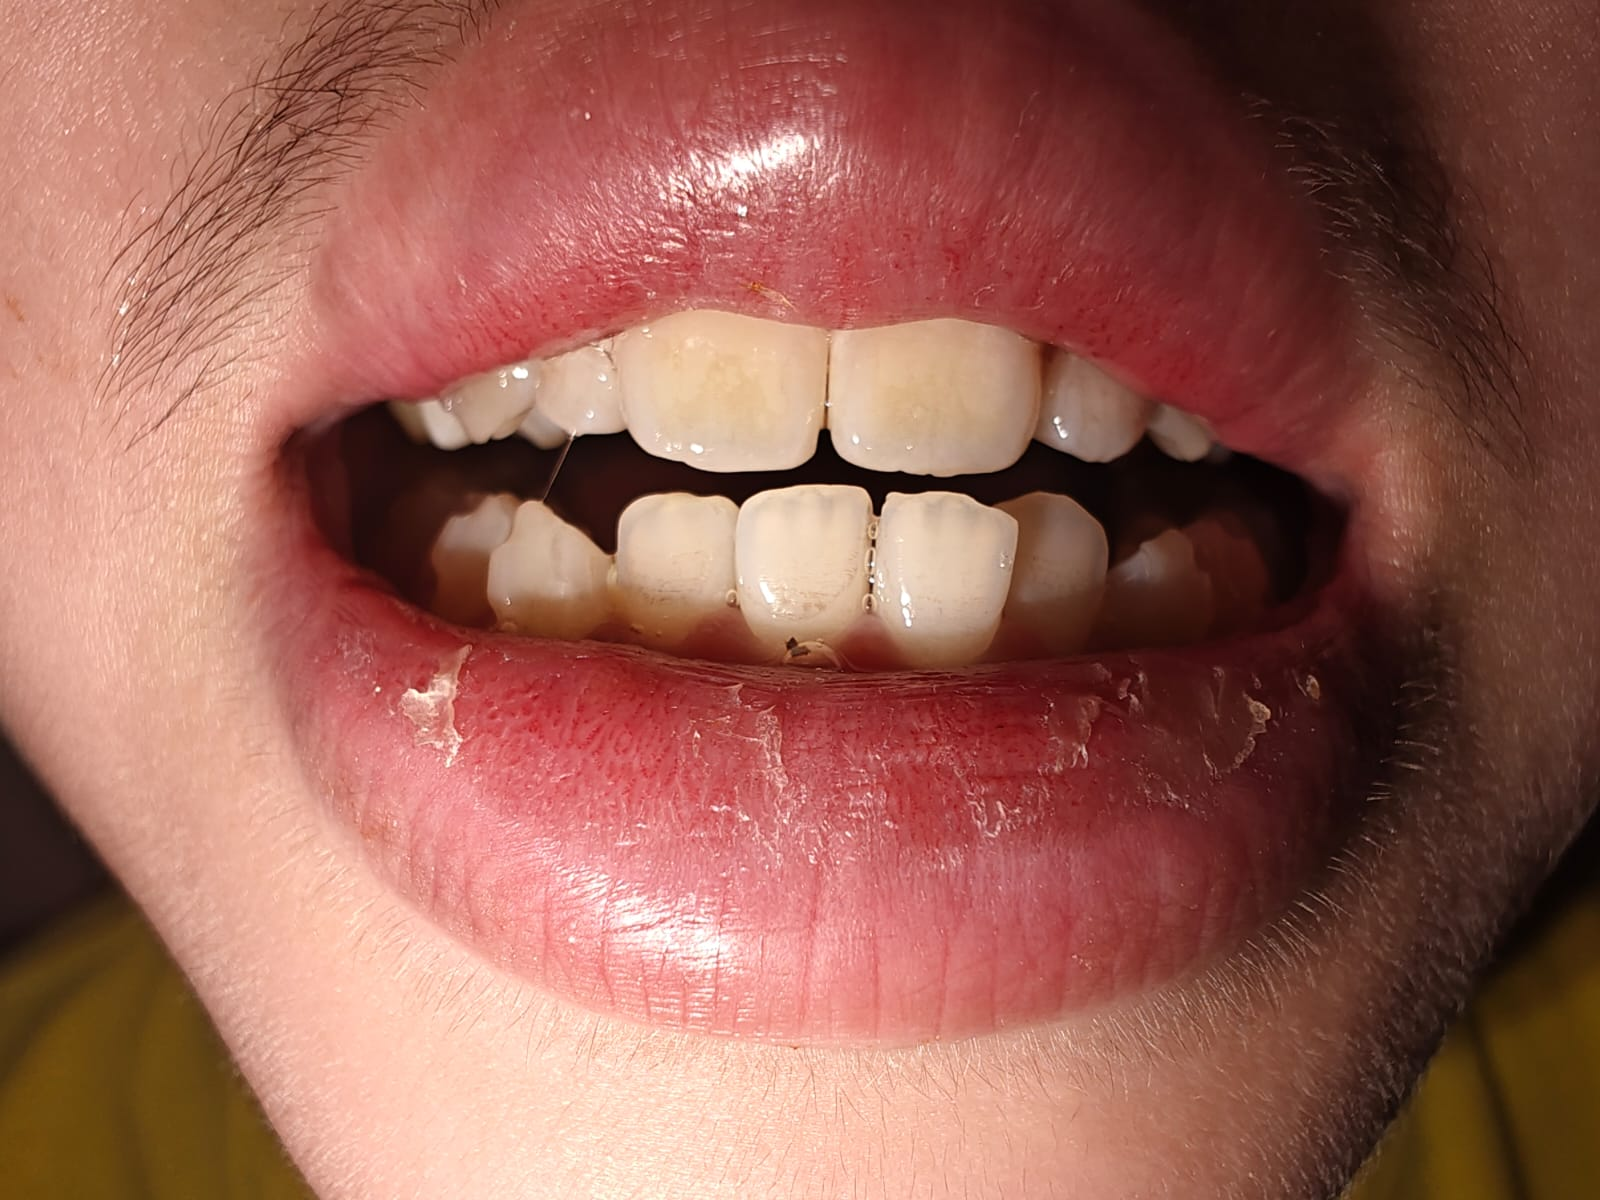teeth: (617, 318, 830, 464), (826, 329, 1034, 466), (876, 498, 1012, 663), (743, 489, 866, 658), (617, 499, 728, 643), (496, 494, 607, 635), (1023, 488, 1102, 648), (1051, 358, 1146, 451), (548, 350, 614, 418)
